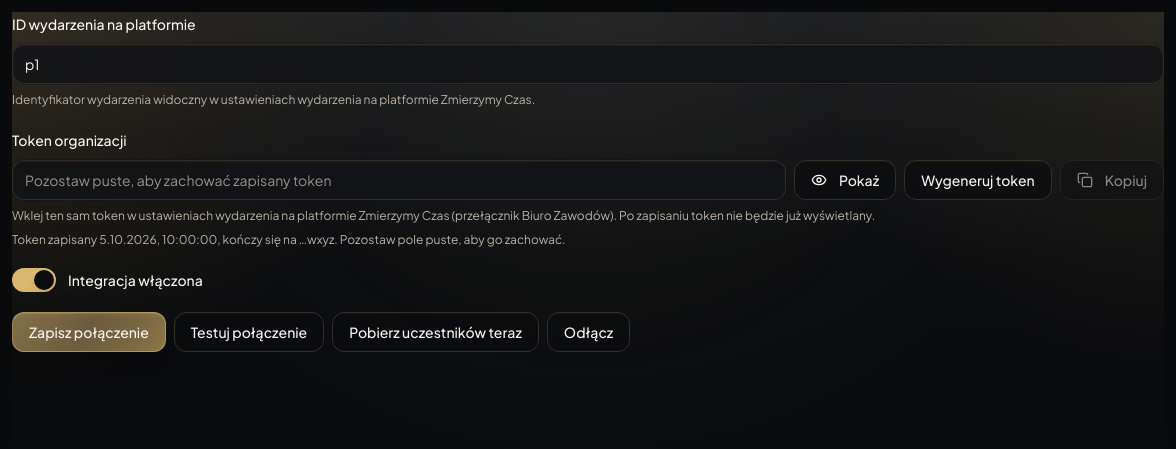
EventPlatformConnectionSection › lists skipped platform registration ids without personal data
The width and height of the screenshot is (1176, 449).
Click the button "Pobierz uczestników teraz": (436, 332) left=332, top=312, right=539, bottom=352
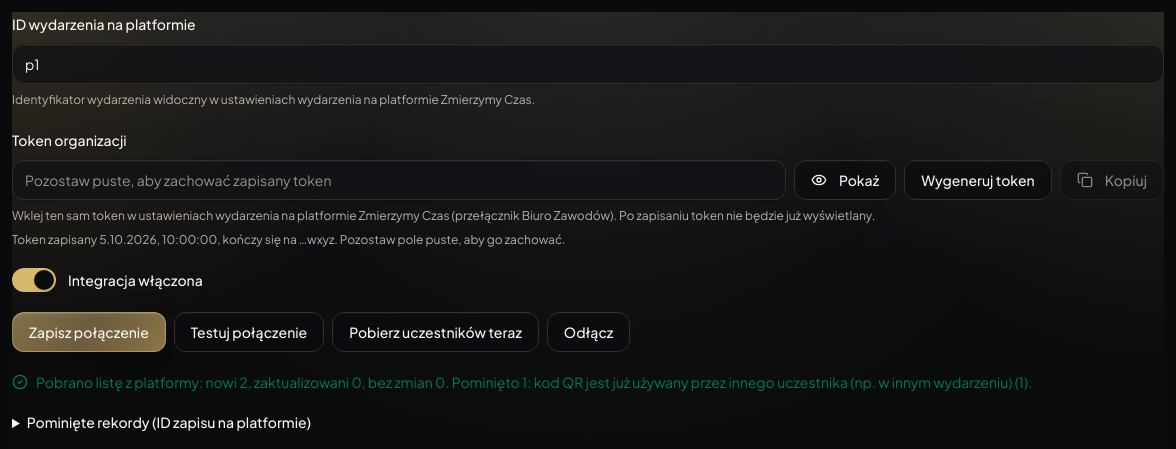
expect the heading "Pominięte rekordy (ID zapisu na platformie)" is shown: met, box left=27, top=413, right=311, bottom=431
